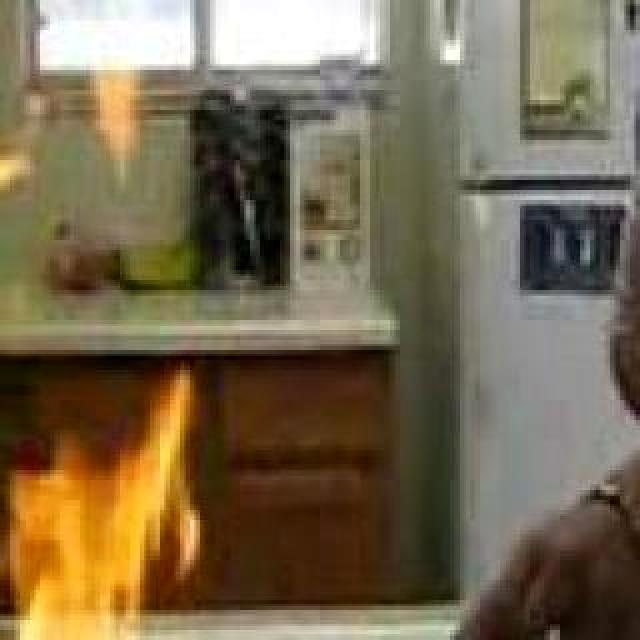fire: (0, 362, 224, 640), (0, 50, 174, 216)
